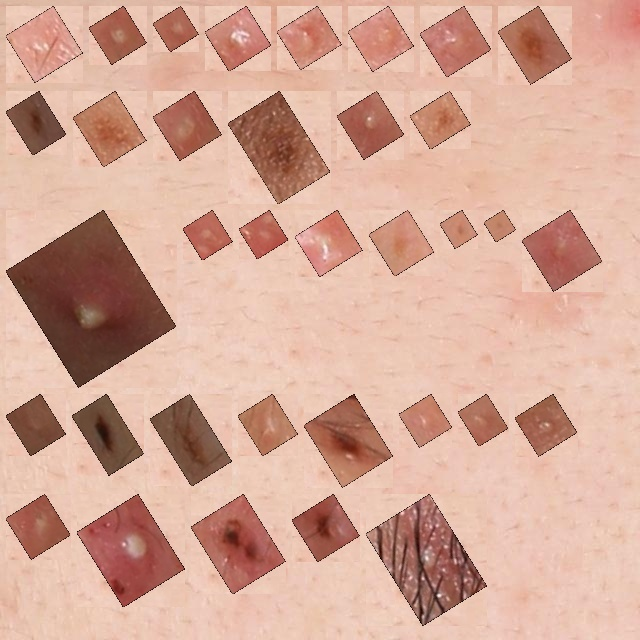melasma: (380, 221, 423, 265), (451, 221, 466, 237)
nevus: (239, 102, 319, 193), (202, 505, 274, 583), (315, 405, 382, 476), (161, 405, 221, 475), (83, 405, 133, 464), (509, 17, 561, 73), (84, 102, 135, 156), (303, 505, 348, 550), (17, 102, 55, 144), (421, 102, 460, 138)
pustule: (17, 221, 165, 376), (377, 505, 476, 614), (88, 505, 174, 596), (533, 221, 591, 280), (17, 17, 72, 71), (431, 17, 480, 66), (164, 102, 211, 149), (348, 102, 393, 148), (306, 221, 351, 265), (216, 17, 260, 60), (359, 17, 403, 60), (288, 17, 331, 59), (17, 505, 59, 548), (526, 405, 566, 445), (17, 405, 55, 445), (249, 405, 287, 445), (100, 17, 136, 53), (410, 405, 441, 436), (469, 405, 497, 435), (194, 221, 221, 249), (250, 221, 277, 248), (164, 17, 187, 40)
